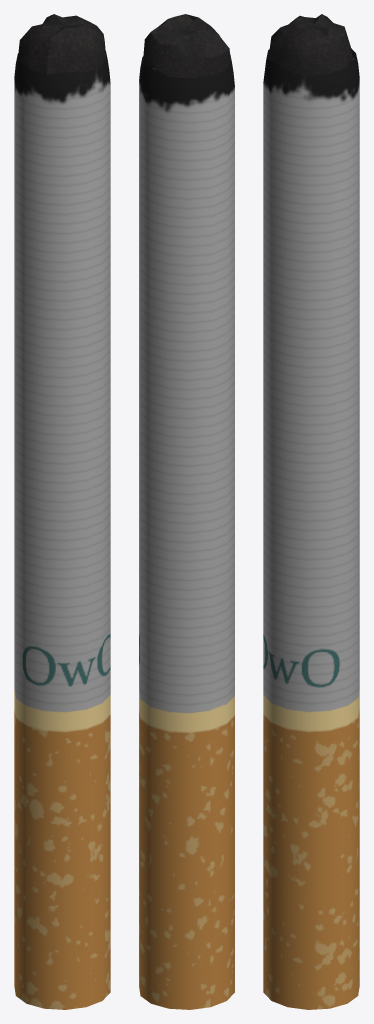
Rendered from CigaretteFBX.fbx.
The picture shows the model from 3 angles, left to right: view 1: azimuth 30°, elevation 25°; view 2: azimuth 210°, elevation 25°; view 3: azimuth 330°, elevation 25°; orthographic projection.
Parts seen in each view (by area): view 1: Ciggy; view 2: Ciggy; view 3: Ciggy.
Boxes of the visible parts, box(x1,y1,x2,y2) form: Ciggy: box(14, 14, 110, 1009); Ciggy: box(139, 14, 234, 1009); Ciggy: box(263, 14, 359, 1009).
Size of the model in its own units: 2.72 by 30.46 by 2.72.
